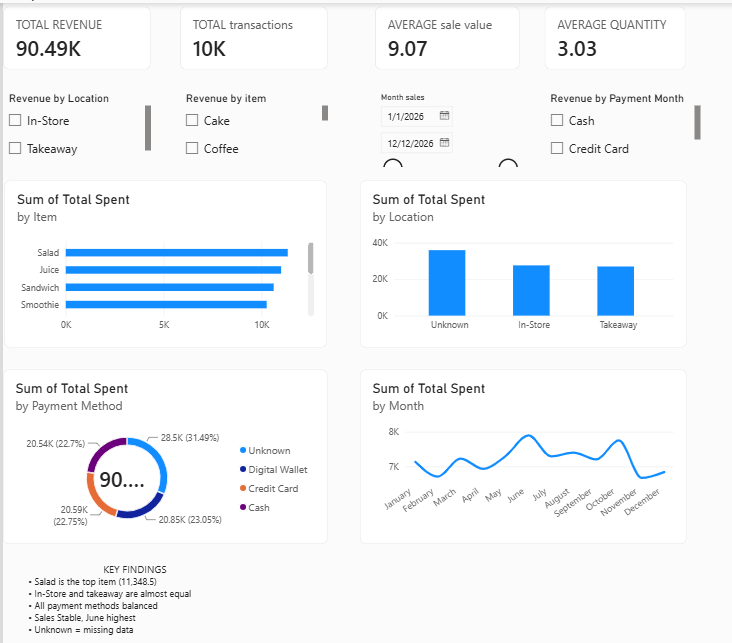

The dashboard page shown, as its layout file describes it:
{"tool":"powerbi","page":{"name":"Page 1","canvas":[1920,1080],"ordinal":0},"visuals":[{"type":"textbox","box":[2.7,0,908,90.7],"z":0},{"type":"cardVisual","title":"TOTAL REVENUE","fields":{"Data":["Sum(Table1.Total Spent)"]},"box":[0,45.3,197.3,84],"z":1000},{"type":"cardVisual","title":"TOTAL REVENUE","fields":{"Data":["Table1.TOTAL TRASACTIONS"]},"box":[236,45.3,197.3,84],"z":2000},{"type":"cardVisual","title":"TOTAL REVENUE","fields":{"Data":["Avg(Table1.Total Spent)"]},"box":[496,45.3,193.3,84],"z":3000},{"type":"cardVisual","title":"TOTAL REVENUE","fields":{"Data":["Avg(Table1.Quantity)"]},"box":[722.7,45.3,188,84],"z":4000},{"type":"clusteredBarChart","fields":{"Category":["Table1.Item"],"Y":["Sum(Table1.Total Spent)"]},"box":[2.7,277.3,430,222.5],"z":5000},{"type":"clusteredColumnChart","fields":{"Category":["Table1.Location"],"Y":["Sum(Table1.Total Spent)"]},"box":[476,277.3,435,222.5],"z":6000},{"type":"donutChart","fields":{"Category":["Table1.Payment Method"],"Y":["Sum(Table1.Total Spent)"]},"box":[0,530,432.5,232.5],"z":7000},{"type":"lineChart","fields":{"Category":["Table1.Transaction Date.Variation.Date Hierarchy.Month"],"Y":["Sum(Table1.Total Spent)"]},"box":[476,529.3,435,232.5],"z":8000},{"type":"slicer","fields":{"Values":["Table1.Location"]},"box":[0,160,197.5,100],"z":9000},{"type":"slicer","fields":{"Values":["Table1.Item"]},"box":[236,160,197.3,100],"z":10000},{"type":"slicer","fields":{"Values":["Table1.Month"]},"box":[496,160,193.3,100],"z":11000},{"type":"slicer","fields":{"Values":["Table1.Payment Method"]},"box":[722.7,160,208,100],"z":12000},{"type":"textbox","box":[24,786,285,151],"z":13000}]}

Visuals, with their boxes on the page's 1920x1080 design canvas (x1, y1, x2, y2). These are canvas units, not pixel positions in the 732x643 screenshot, which may show the page scaled, cropped or inside an application window:
textbox: BBox(3, 0, 911, 91)
"TOTAL REVENUE" cardVisual: BBox(0, 45, 197, 129)
"TOTAL REVENUE" cardVisual: BBox(236, 45, 433, 129)
"TOTAL REVENUE" cardVisual: BBox(496, 45, 689, 129)
"TOTAL REVENUE" cardVisual: BBox(723, 45, 911, 129)
clusteredBarChart - Table1.Item x Sum(Table1.Total Spent): BBox(3, 277, 433, 500)
clusteredColumnChart - Table1.Location x Sum(Table1.Total Spent): BBox(476, 277, 911, 500)
donutChart - Table1.Payment Method x Sum(Table1.Total Spent): BBox(0, 530, 432, 762)
lineChart - Table1.Transaction Date.Variation.Date Hierarchy.Month x Sum(Table1.Total Spent): BBox(476, 529, 911, 762)
slicer - Table1.Location: BBox(0, 160, 198, 260)
slicer - Table1.Item: BBox(236, 160, 433, 260)
slicer - Table1.Month: BBox(496, 160, 689, 260)
slicer - Table1.Payment Method: BBox(723, 160, 931, 260)
textbox: BBox(24, 786, 309, 937)
